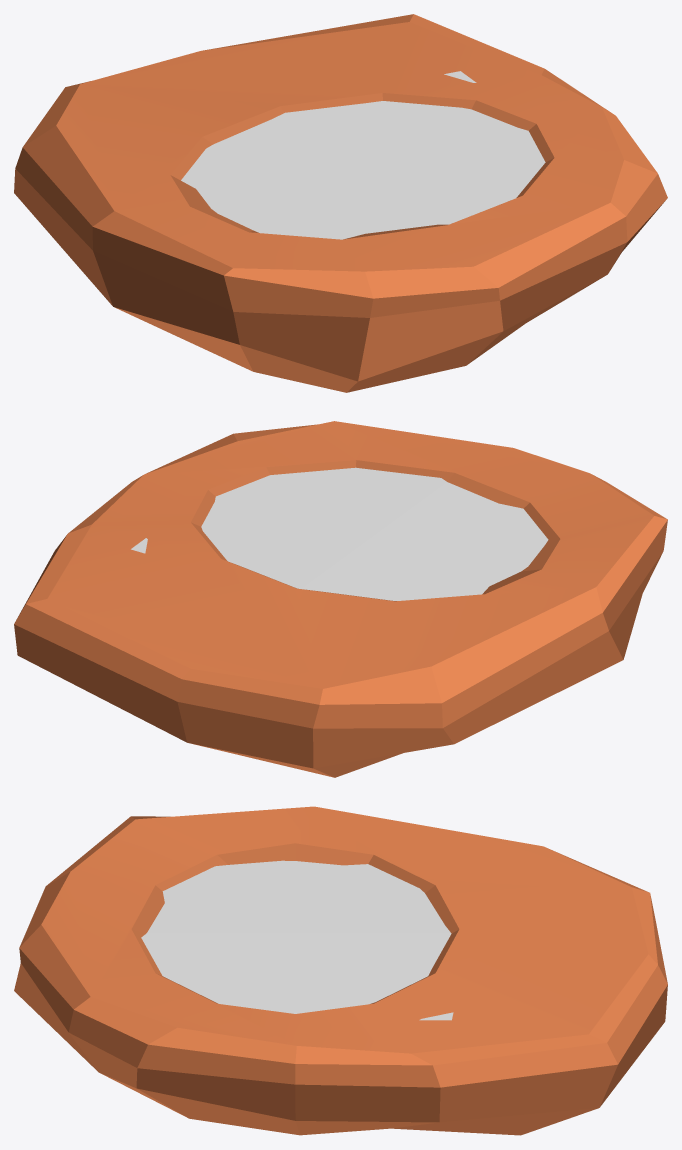
File: Island1.fbx
3 views of the same model, one above another, from view 1: azimuth 30°, elevation 25°; view 2: azimuth 150°, elevation 25°; view 3: azimuth 270°, elevation 25° (orthographic). The views are drawn at different scales.
Visible parts, largest first — view 1: Plane.004, Plane.005; view 2: Plane.004, Plane.005; view 3: Plane.004, Plane.005.
Part boxes in pixels (bbox=[...]): Plane.004: bbox=[14, 14, 667, 392]; Plane.005: bbox=[181, 71, 545, 239]; Plane.004: bbox=[14, 421, 667, 777]; Plane.005: bbox=[131, 467, 548, 600]; Plane.004: bbox=[14, 806, 667, 1135]; Plane.005: bbox=[141, 860, 453, 1020].
Bounding box in the file's own units: 1361 × 446 × 1495.
